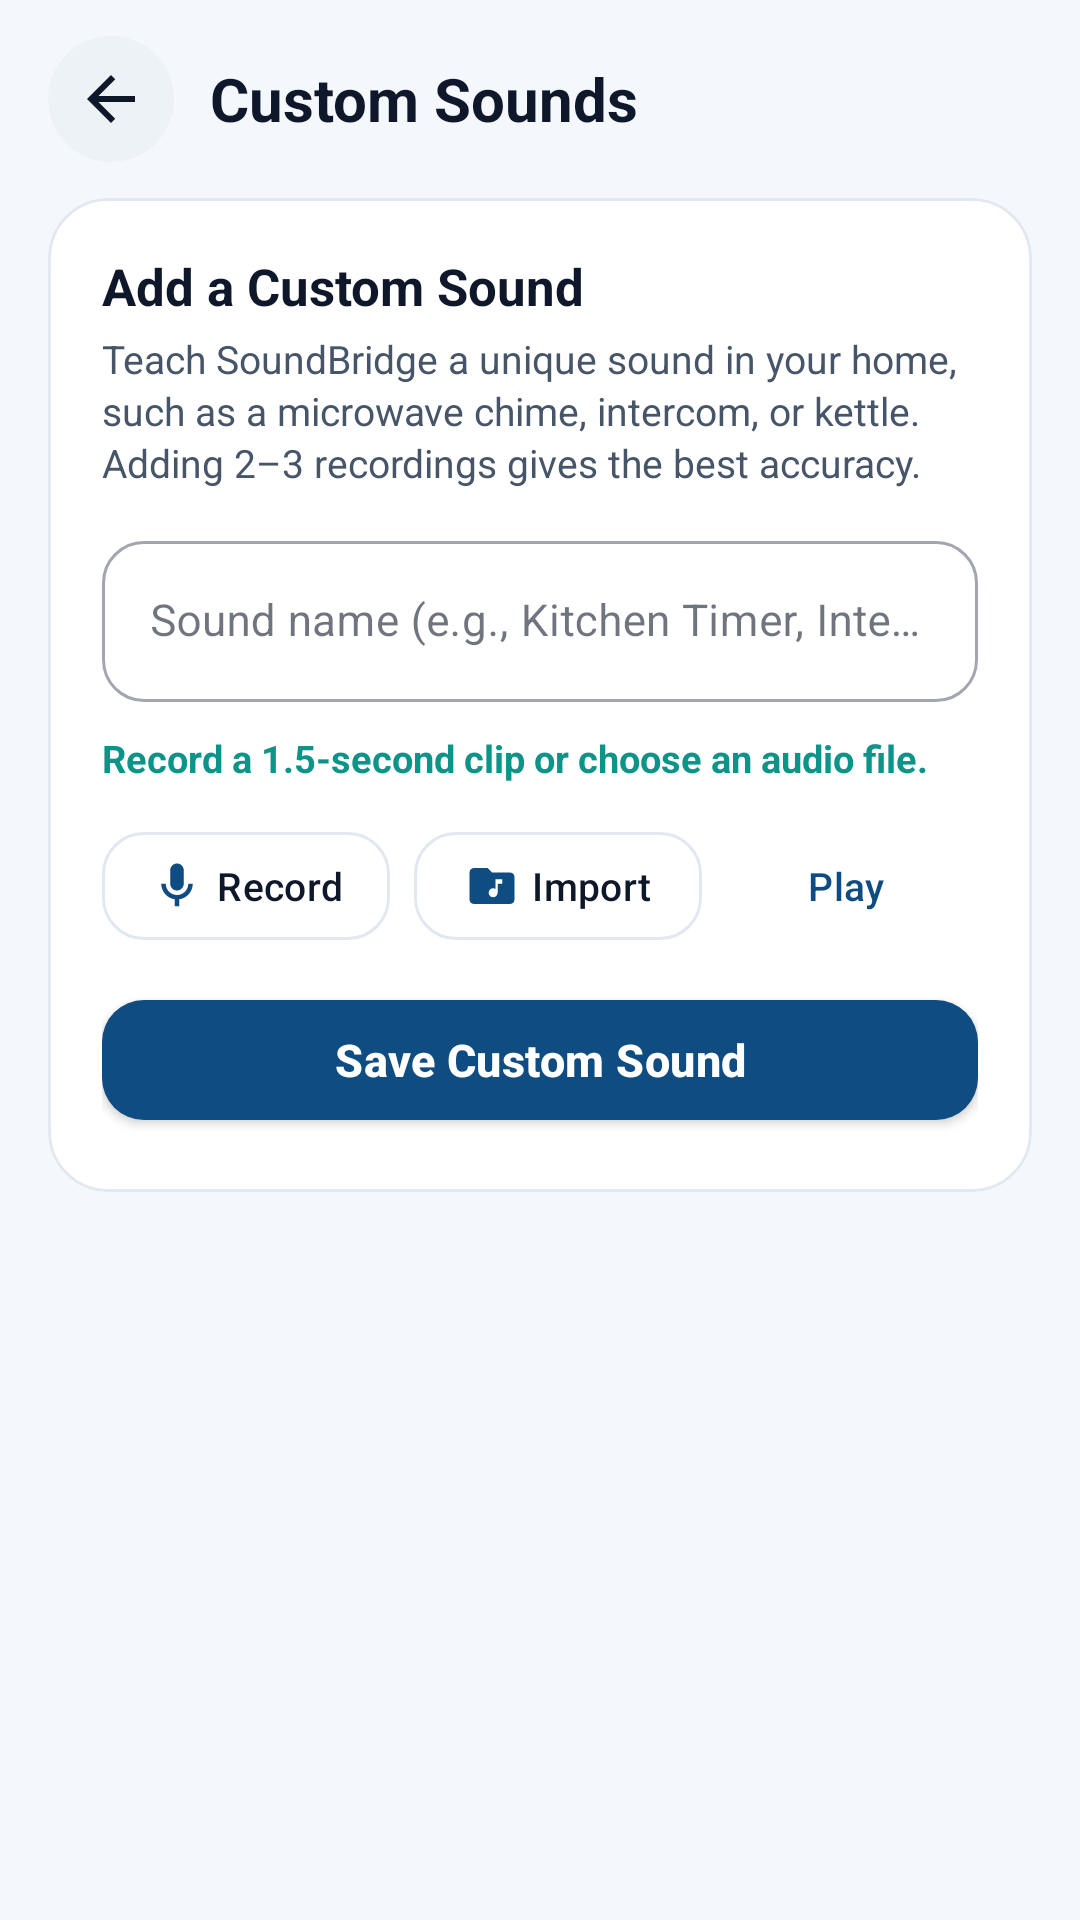

Icon bounding boxes for this 1080w x 1920h phone screenshot, format (x1, y1, x2, y2):
Back: (87, 75, 135, 123)
